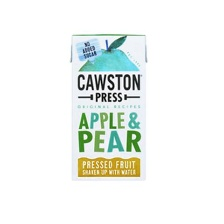carton: (63, 30, 156, 185)
